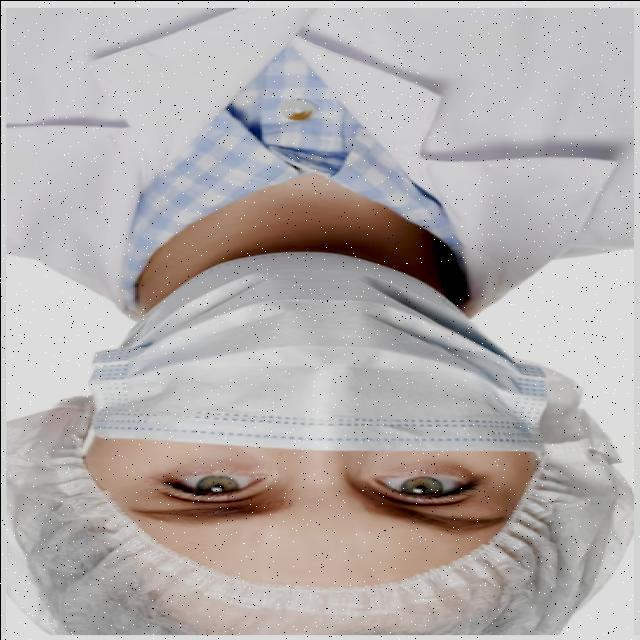face_mask: (44, 263, 588, 614)
